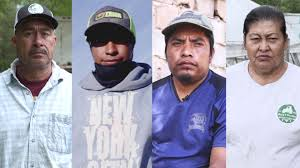mask_weared_incorrect: (92, 35, 132, 74)
without_mask: (168, 34, 211, 83), (249, 30, 283, 76), (21, 27, 55, 67)
